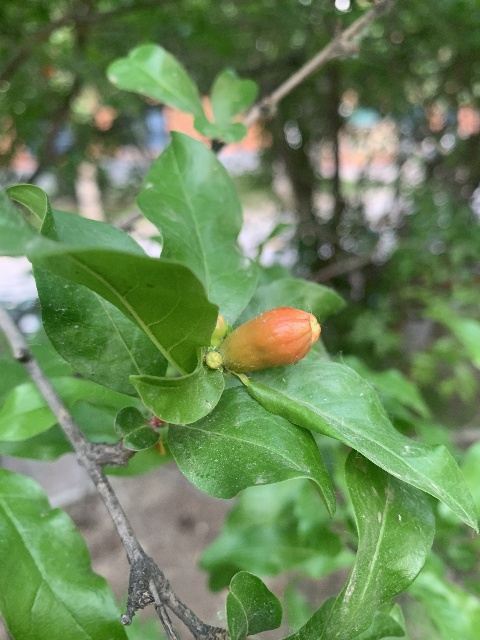bud: (224, 306, 321, 371), (211, 315, 227, 348), (205, 351, 222, 370)
